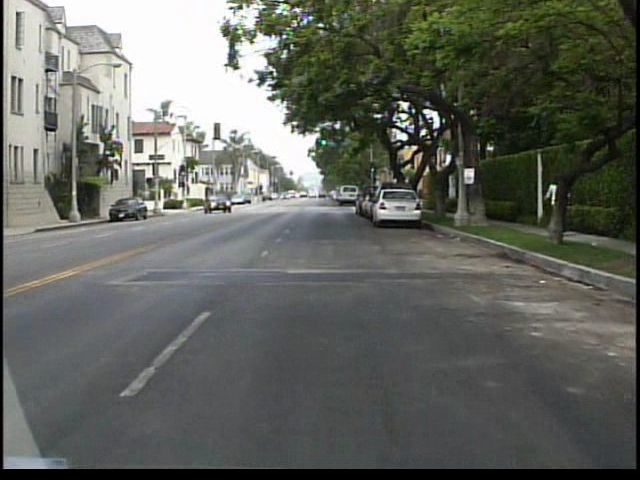person: (537, 167, 572, 247)
